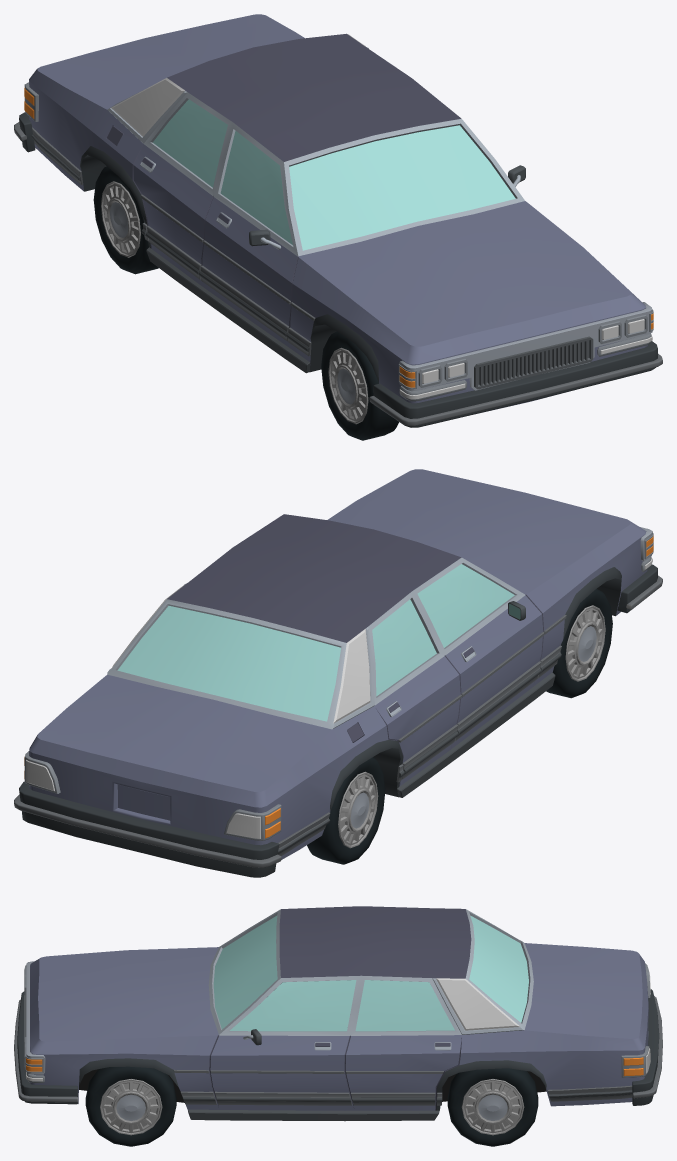
File: SM_Vehicles_01_V1.fbx
3 views of the same model, one above another, from view 1: azimuth 30°, elevation 25°; view 2: azimuth 150°, elevation 25°; view 3: azimuth 270°, elevation 25° (orthographic). The views are drawn at different scales.
Visible parts, largest first — view 1: SM_Vehicles_01_V1, SM_Vehicles_01_FR, SM_Vehicles_01_RR; view 2: SM_Vehicles_01_V1, SM_Vehicles_01_RR, SM_Vehicles_01_FR; view 3: SM_Vehicles_01_V1, SM_Vehicles_01_FL, SM_Vehicles_01_RL.
Boxes of the visible parts, x1=… form: SM_Vehicles_01_V1: x1=14, y1=14, x2=662, y2=427; SM_Vehicles_01_FR: x1=321, y1=331, x2=398, y2=440; SM_Vehicles_01_RR: x1=93, y1=166, x2=158, y2=274; SM_Vehicles_01_V1: x1=14, y1=469, x2=662, y2=877; SM_Vehicles_01_RR: x1=307, y1=757, x2=385, y2=864; SM_Vehicles_01_FR: x1=546, y1=589, x2=612, y2=698; SM_Vehicles_01_V1: x1=14, y1=906, x2=662, y2=1121; SM_Vehicles_01_FL: x1=85, y1=1066, x2=176, y2=1146; SM_Vehicles_01_RL: x1=447, y1=1068, x2=538, y2=1146.
Bounding box in the file's own units: 1.92 × 1.39 × 4.93.
